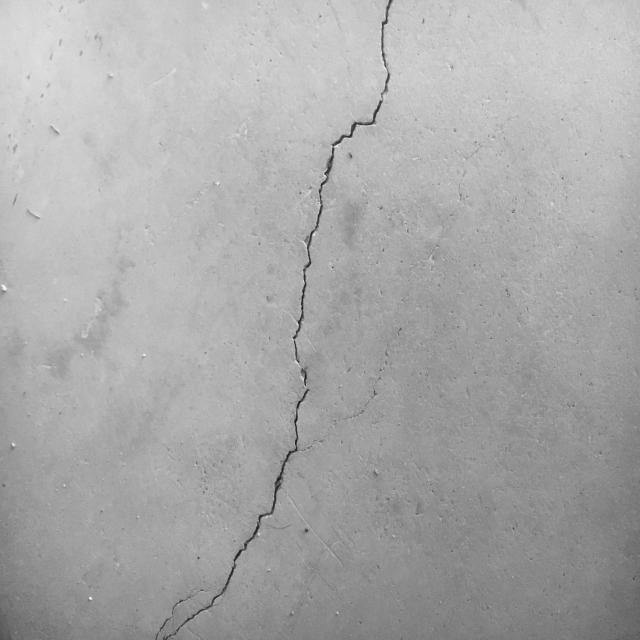SurfaceCrack: (113, 1, 423, 640)
